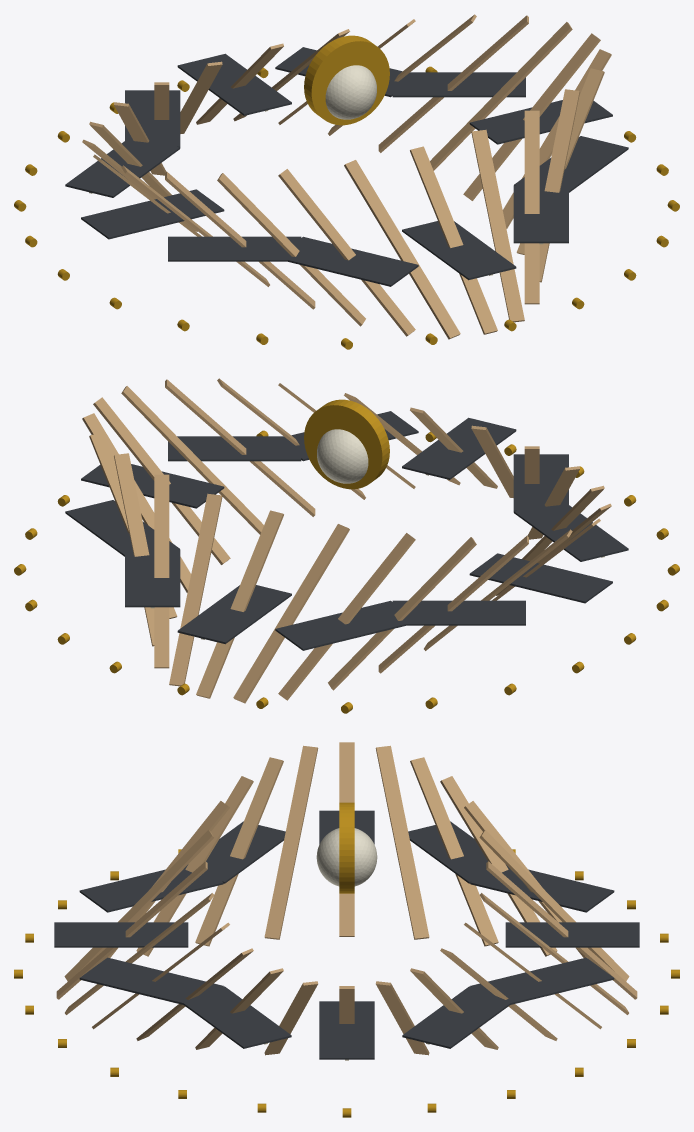
The model's file is stratavox_vaulted.obj.
3 renders of one model, top to bottom at view 1: azimuth 30°, elevation 25°; view 2: azimuth 150°, elevation 25°; view 3: azimuth 270°, elevation 25°, orthographic.
Visible parts, largest first — view 1: geometry_0, geometry_28, geometry_34, geometry_40, geometry_22, geometry_18, geometry_58, geometry_70, geometry_24, geometry_46, geometry_14, geometry_16 (+23 smaller); view 2: geometry_0, geometry_46, geometry_52, geometry_40, geometry_58, geometry_60, geometry_10, geometry_22, geometry_54, geometry_34, geometry_62, geometry_64 (+23 smaller); view 3: geometry_64, geometry_10, geometry_70, geometry_36, geometry_42, geometry_22, geometry_58, geometry_16, geometry_4, geometry_32, geometry_44, geometry_28 (+26 smaller).
Part boxes in pixels (x1,y1,x2,y2): geometry_0: (304,35,389,125); geometry_28: (280,236,418,286); geometry_34: (168,236,301,261); geometry_40: (81,189,224,239); geometry_22: (402,221,516,280); geometry_18: (471,129,524,322); geometry_58: (177,53,291,115); geometry_70: (392,72,525,97); geometry_24: (344,160,460,339); geometry_46: (65,136,179,197); geometry_14: (524,110,539,304); geometry_16: (513,185,568,243); geometry_0: (304,399,389,489); geometry_46: (392,600,525,625); geometry_52: (275,600,406,650); geometry_40: (469,553,612,603); geometry_58: (177,585,291,644); geometry_60: (169,493,222,686); geometry_10: (168,436,301,461); geometry_22: (402,417,516,479); geometry_54: (233,524,349,703); geometry_34: (514,500,628,561); geometry_62: (154,474,169,668); geometry_64: (125,549,180,607); geometry_64: (470,957,614,1005); geometry_10: (177,986,291,1048); geometry_70: (402,986,516,1048); geometry_36: (264,745,318,939); geometry_42: (375,745,429,939); geometry_22: (54,922,188,947); geometry_58: (505,922,639,947); geometry_16: (79,957,223,1005); geometry_4: (319,1001,374,1059); geometry_32: (195,757,283,946); geometry_44: (410,757,498,946); geometry_28: (79,869,223,912).
Size of the model in its own units: 2.64 by 0.8287 by 2.63.
